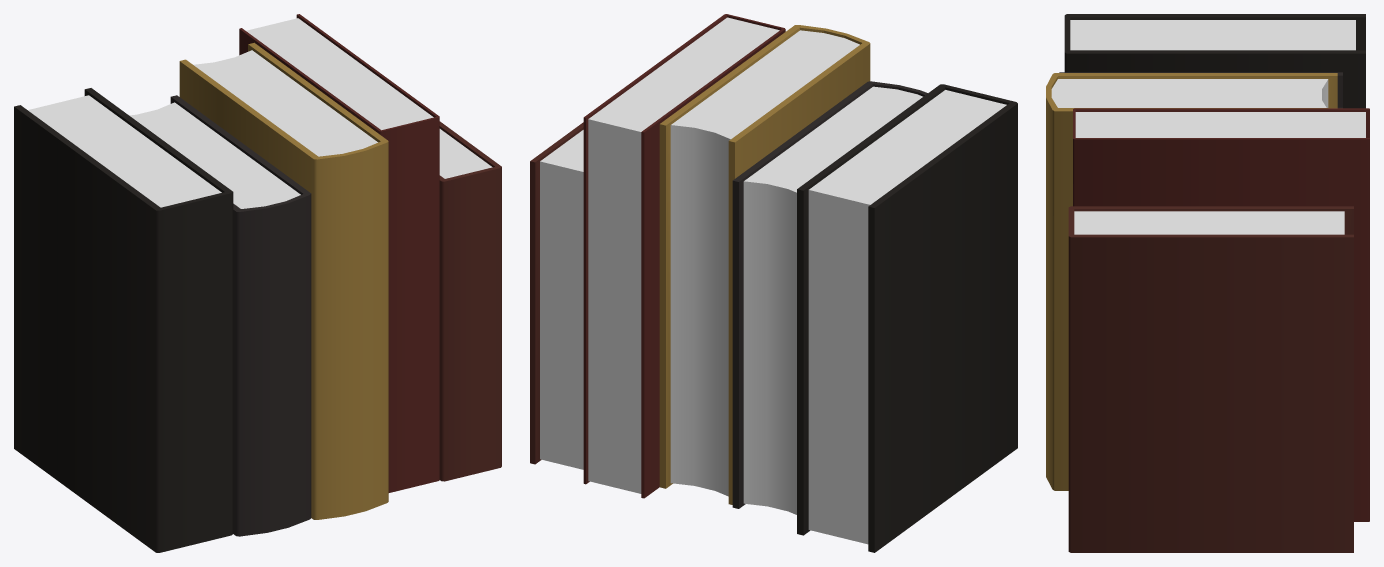
The model's file is 072_books_reversed.glb.
3 views of the same model, side by side, from view 1: azimuth 30°, elevation 25°; view 2: azimuth 150°, elevation 25°; view 3: azimuth 270°, elevation 25° (orthographic). The views are drawn at different scales.
Parts seen in each view (by area): view 1: Plane.009, Plane.007, Plane.008, Plane.006, Plane.005; view 2: Plane.009, Plane.007, Plane.006, Plane.008, Plane.005; view 3: Plane.005, Plane.006, Plane.007, Plane.009, Plane.008.
Part boxes in pixels (<box>): Plane.009: <box>14,88,233,552</box>; Plane.007: <box>179,42,388,519</box>; Plane.008: <box>129,95,311,536</box>; Plane.006: <box>239,14,439,492</box>; Plane.005: <box>439,121,501,481</box>; Plane.009: <box>797,84,1017,552</box>; Plane.007: <box>659,25,870,504</box>; Plane.006: <box>583,14,785,498</box>; Plane.008: <box>732,81,927,514</box>; Plane.005: <box>530,122,583,469</box>; Plane.005: <box>1068,206,1353,552</box>; Plane.006: <box>1073,108,1369,521</box>; Plane.007: <box>1046,73,1337,490</box>; Plane.009: <box>1064,14,1365,108</box>; Plane.008: <box>1059,72,1342,108</box>.
Size of the model in its own units: 0.7499 by 0.7488 by 0.5747.
